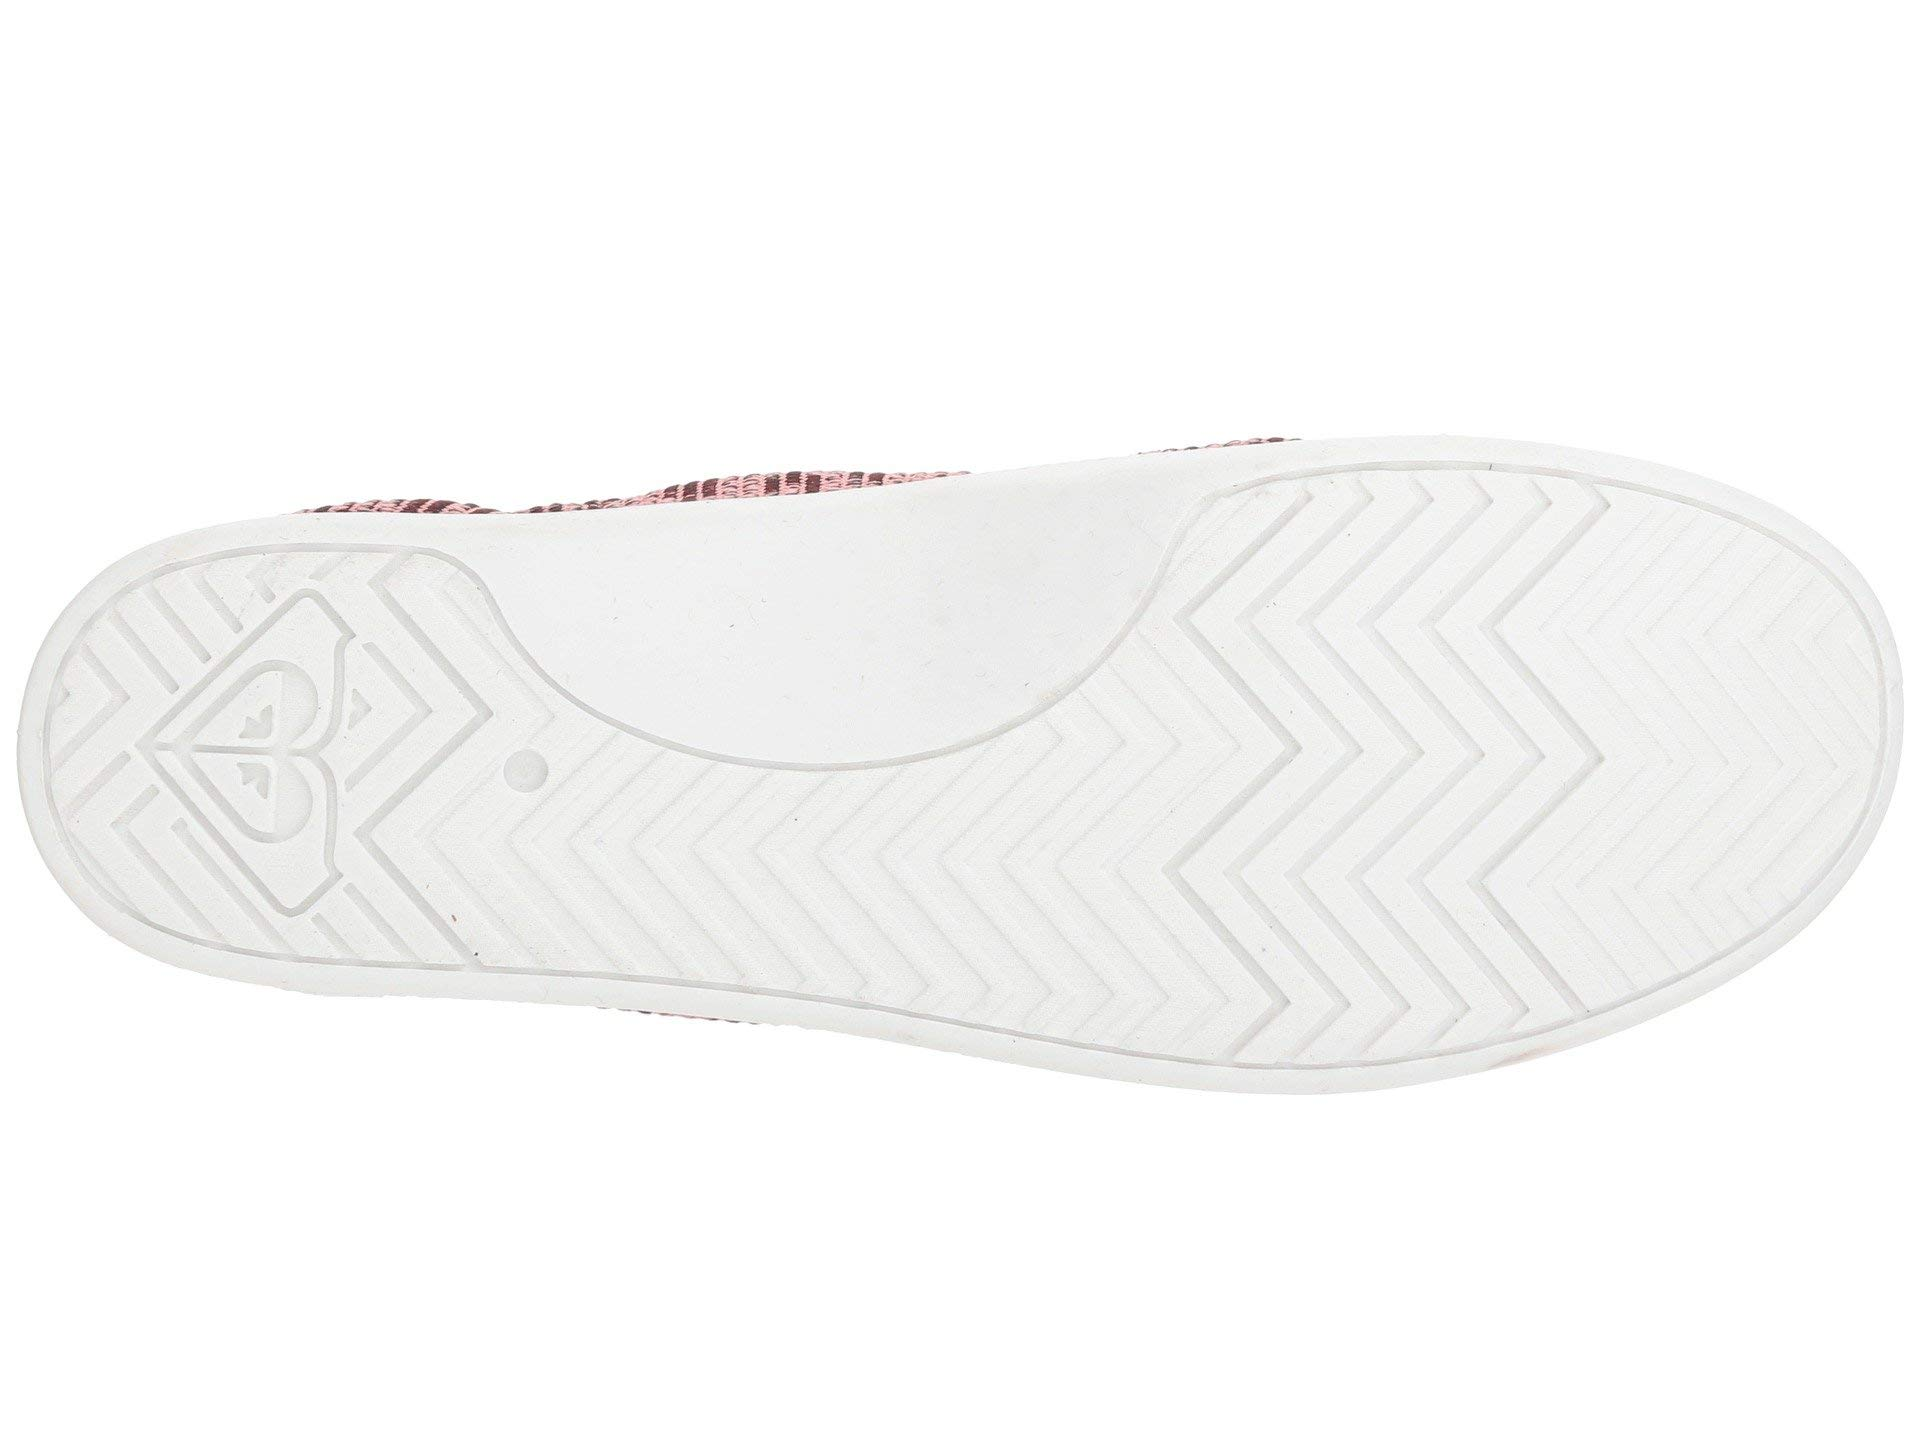chevron: (1155, 573, 1601, 985), (100, 542, 398, 921), (804, 764, 1113, 1012), (1607, 584, 1844, 839), (408, 663, 612, 926)
circle: (408, 663, 612, 926)
quad: (100, 542, 398, 921)
triangle: (100, 542, 398, 921)
